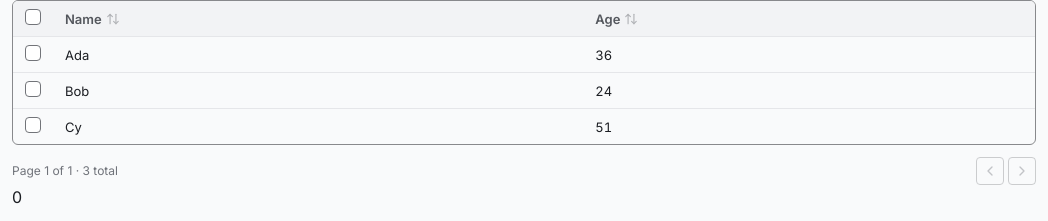
Test: DataTable — selection › the "select all on page" checkbox selects every visible row
This screenshot has width=1048, height=221.
Click the checkbox named "Select all rows on this page" at x=33, y=17, box [25,9,41,25]
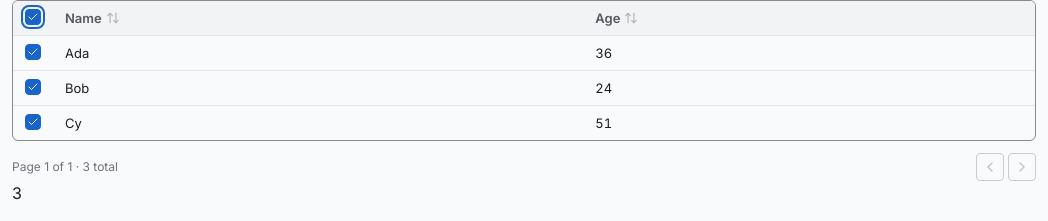
Expected: the text with test id "selected-count" reads "3", [12,183,22,203]
